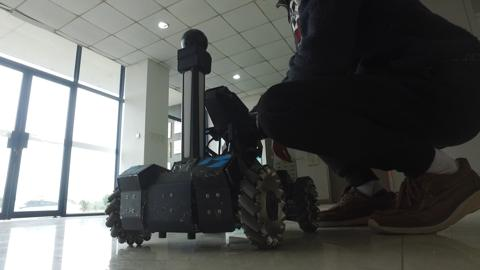chariot: (105, 27, 323, 251)
